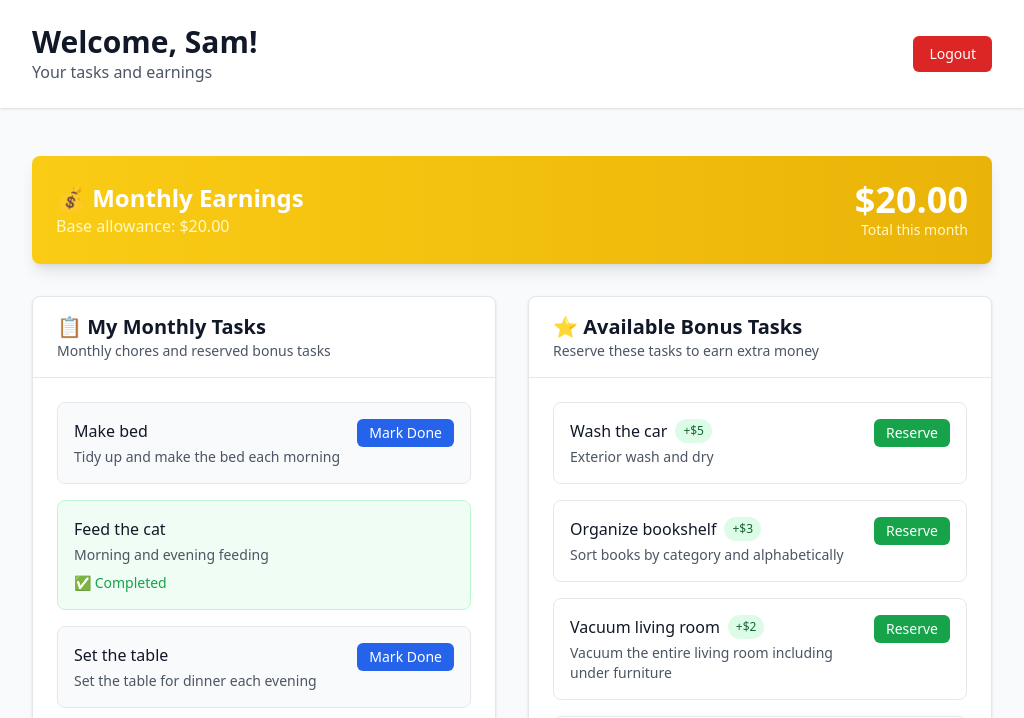
Test: ChildDashboard › should handle chore completion error
The width and height of the screenshot is (1024, 718).
Expected: the heading "Make bed" is shown, [74,419,148,443]
Click the button "Mark Done" in the row of "Make bed" at (406, 433), box [357,419,454,447]
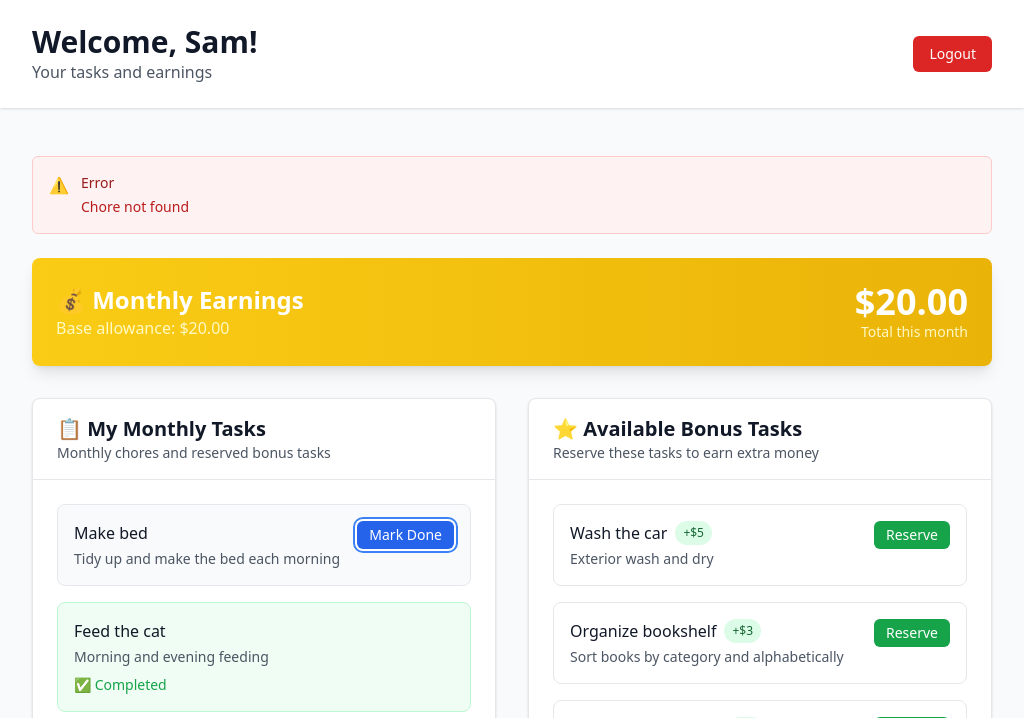
Result: the heading "Error" is shown at [81,173,114,192]
Result: the text "Chore not found" is shown at [81,197,189,217]
